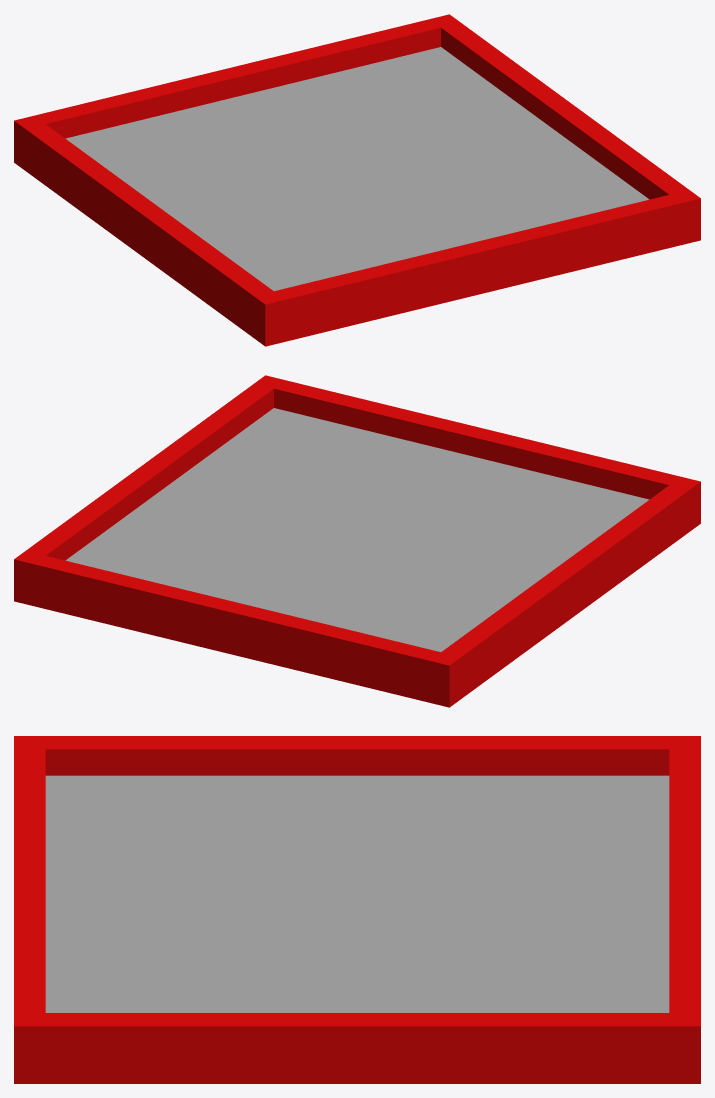
The model's file is painting.fbx.
3 renders of one model, top to bottom at view 1: azimuth 30°, elevation 25°; view 2: azimuth 150°, elevation 25°; view 3: azimuth 270°, elevation 25°, orthographic. The views are drawn at different scales.
Visible parts, largest first — view 1: pCube1; view 2: pCube1; view 3: pCube1.
Part boxes in pixels (x1,y1,x2,y2): pCube1: [14, 14, 700, 346]; pCube1: [14, 375, 700, 707]; pCube1: [14, 736, 700, 1083].
Size of the model in its own units: 1.53 by 0.1408 by 1.53.
